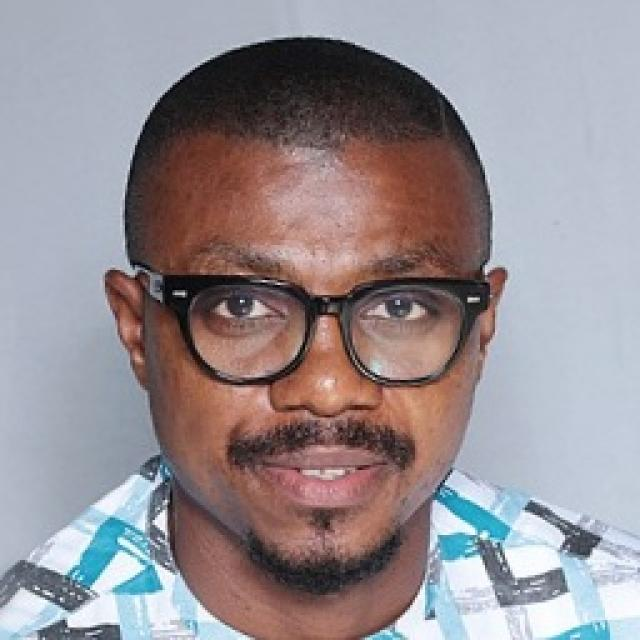glasses: (130, 251, 501, 394)
